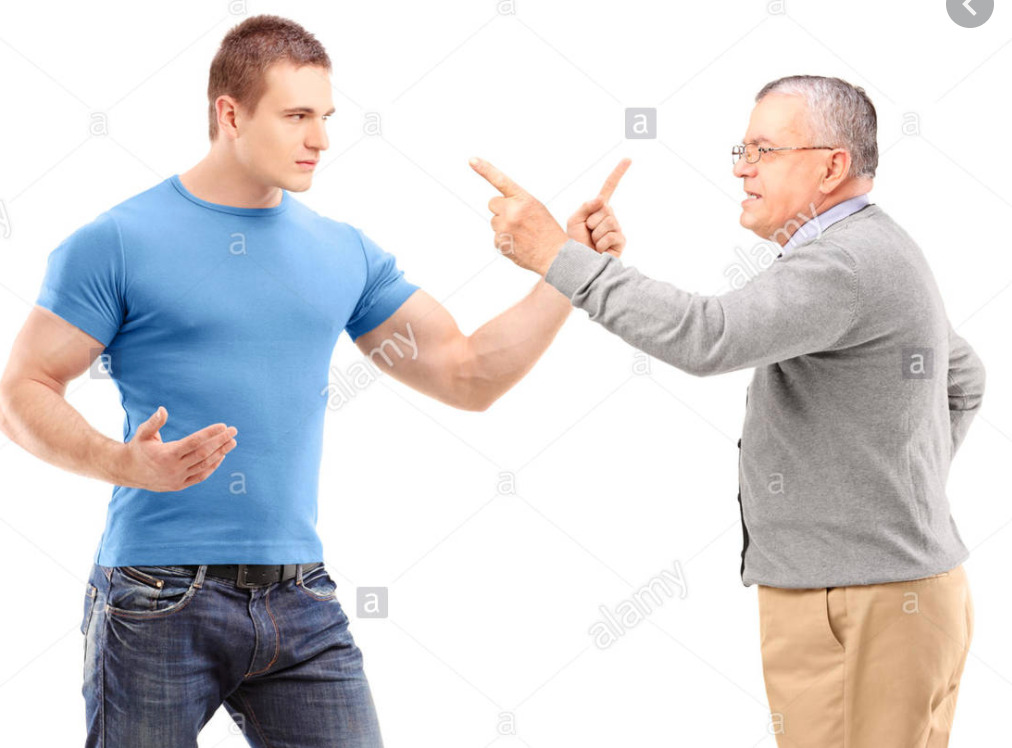Bad: (1, 15, 985, 748)
